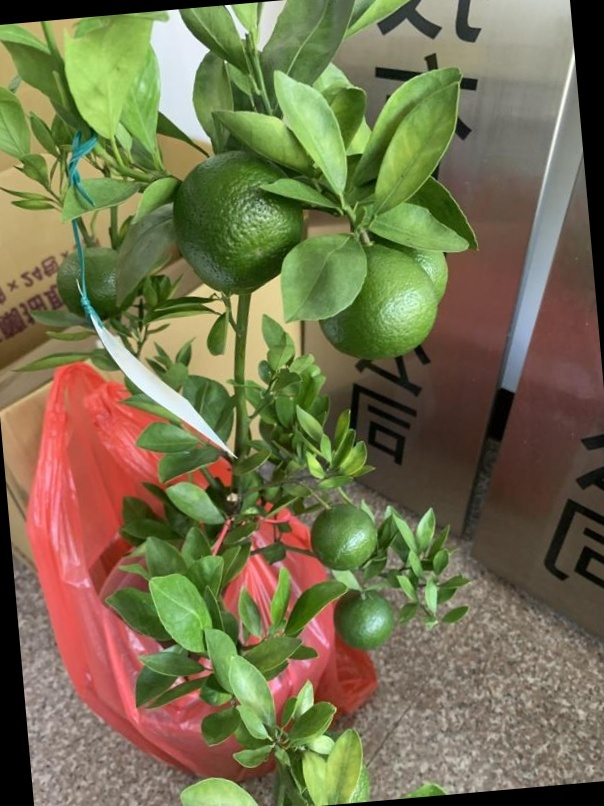Tangerine: (175, 150, 314, 298), (323, 245, 442, 364), (310, 501, 378, 570), (334, 586, 394, 653)
